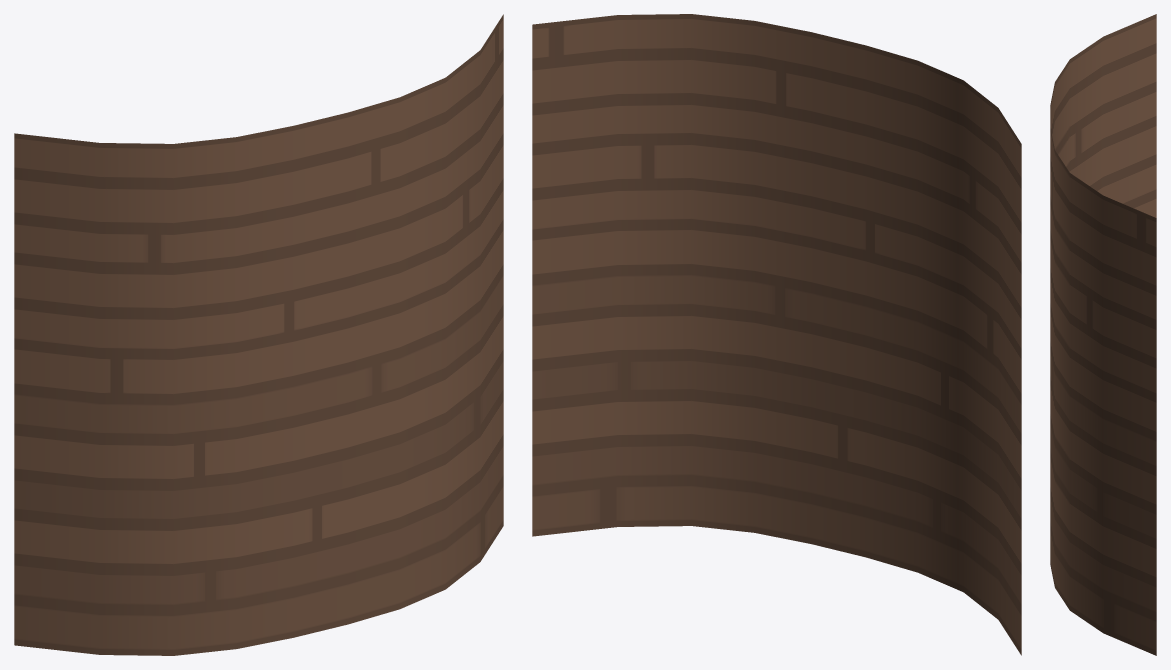
File: menu_bg.glb
3 views of the same model, side by side, from view 1: azimuth 30°, elevation 25°; view 2: azimuth 150°, elevation 25°; view 3: azimuth 270°, elevation 25° (orthographic). The views are drawn at different scales.
Parts seen in each view (by area): view 1: menu_BG; view 2: menu_BG; view 3: menu_BG.
Part boxes in pixels (bbox=[...]): menu_BG: bbox=[14, 14, 503, 655]; menu_BG: bbox=[532, 14, 1021, 655]; menu_BG: bbox=[1050, 14, 1156, 655].
Size of what is drawn, in the model's own units: 1 by 1 by 0.2196.
1 material, 1 textured.
